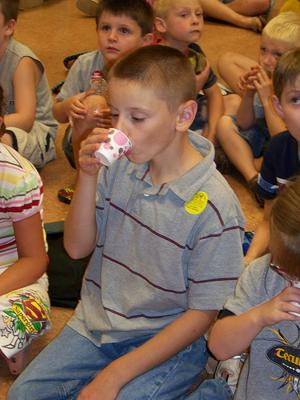person: (7, 41, 248, 400)
